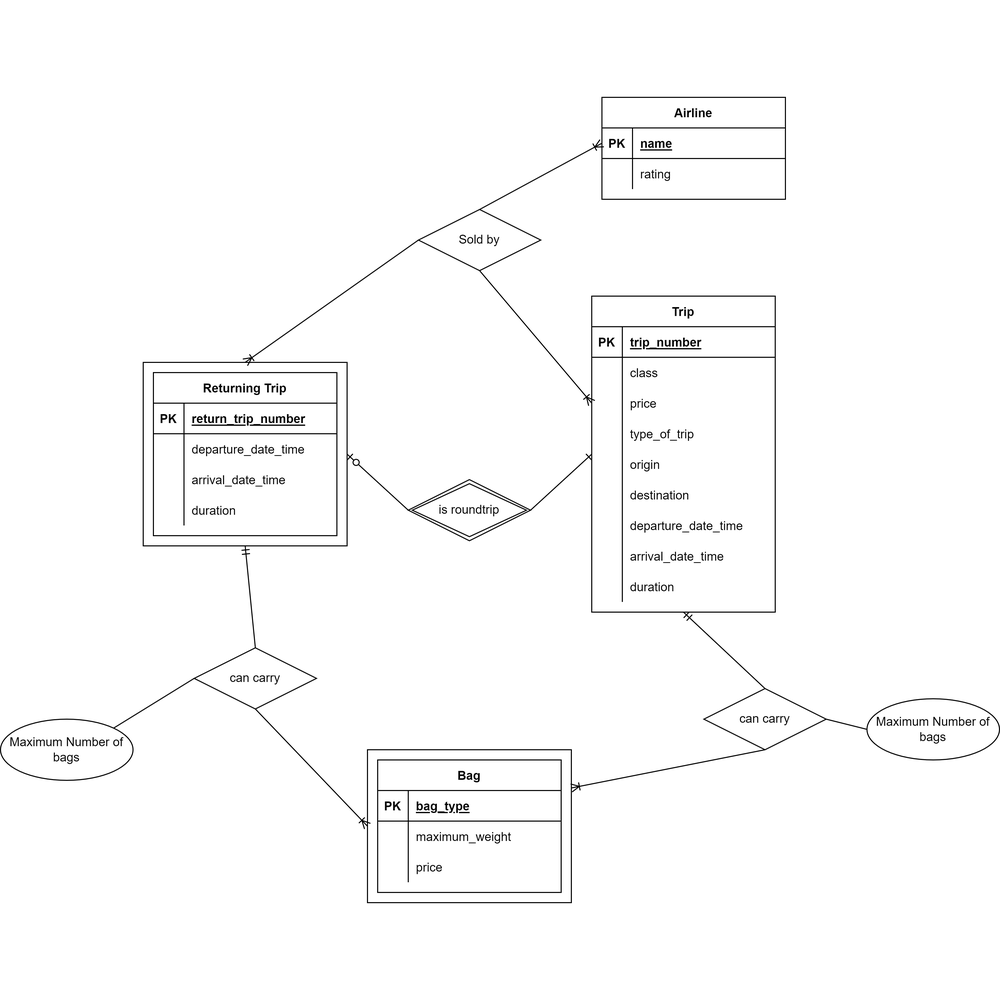attribute: (861, 697, 1000, 767), (1, 716, 138, 786)
entity: (588, 290, 781, 619), (132, 354, 358, 555), (359, 740, 582, 911), (598, 92, 788, 202)
relationship: (690, 681, 836, 756), (413, 202, 550, 272), (407, 472, 532, 547), (191, 645, 313, 713)
